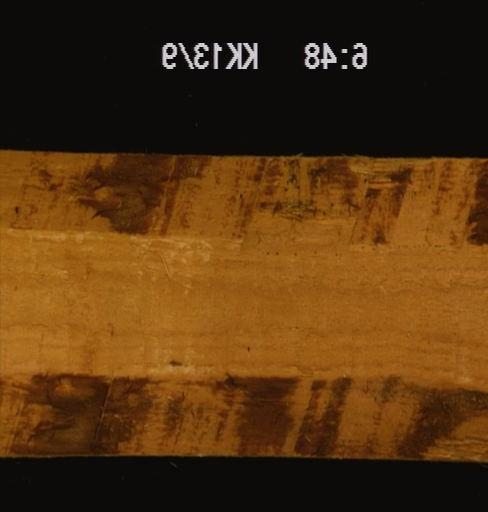wave: (1, 149, 486, 243), (1, 371, 486, 459)
